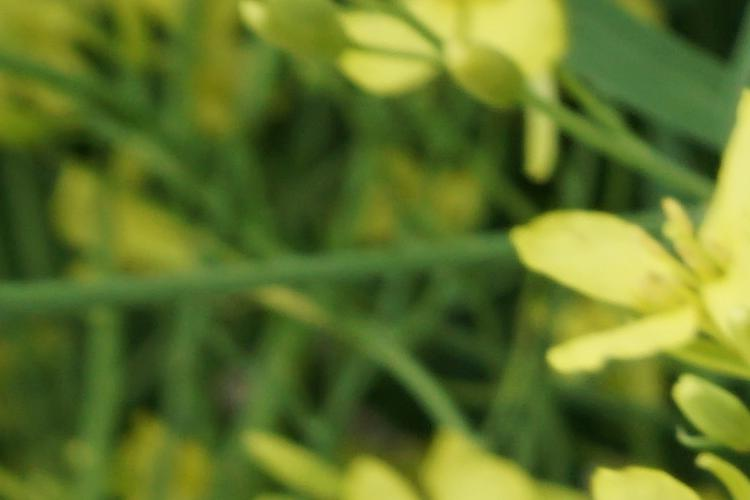bud: (667, 378, 750, 451)
yellow: (537, 148, 749, 373)
